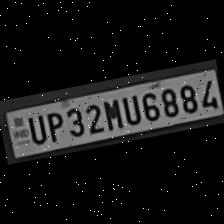2: (80, 100, 104, 136)
3: (60, 104, 86, 139)
4: (194, 76, 220, 111)
6: (137, 88, 162, 123)
8: (156, 84, 180, 119), (176, 81, 200, 116)
M: (98, 95, 124, 131)
P: (42, 107, 67, 143)
U: (22, 111, 48, 146), (118, 92, 142, 127)
